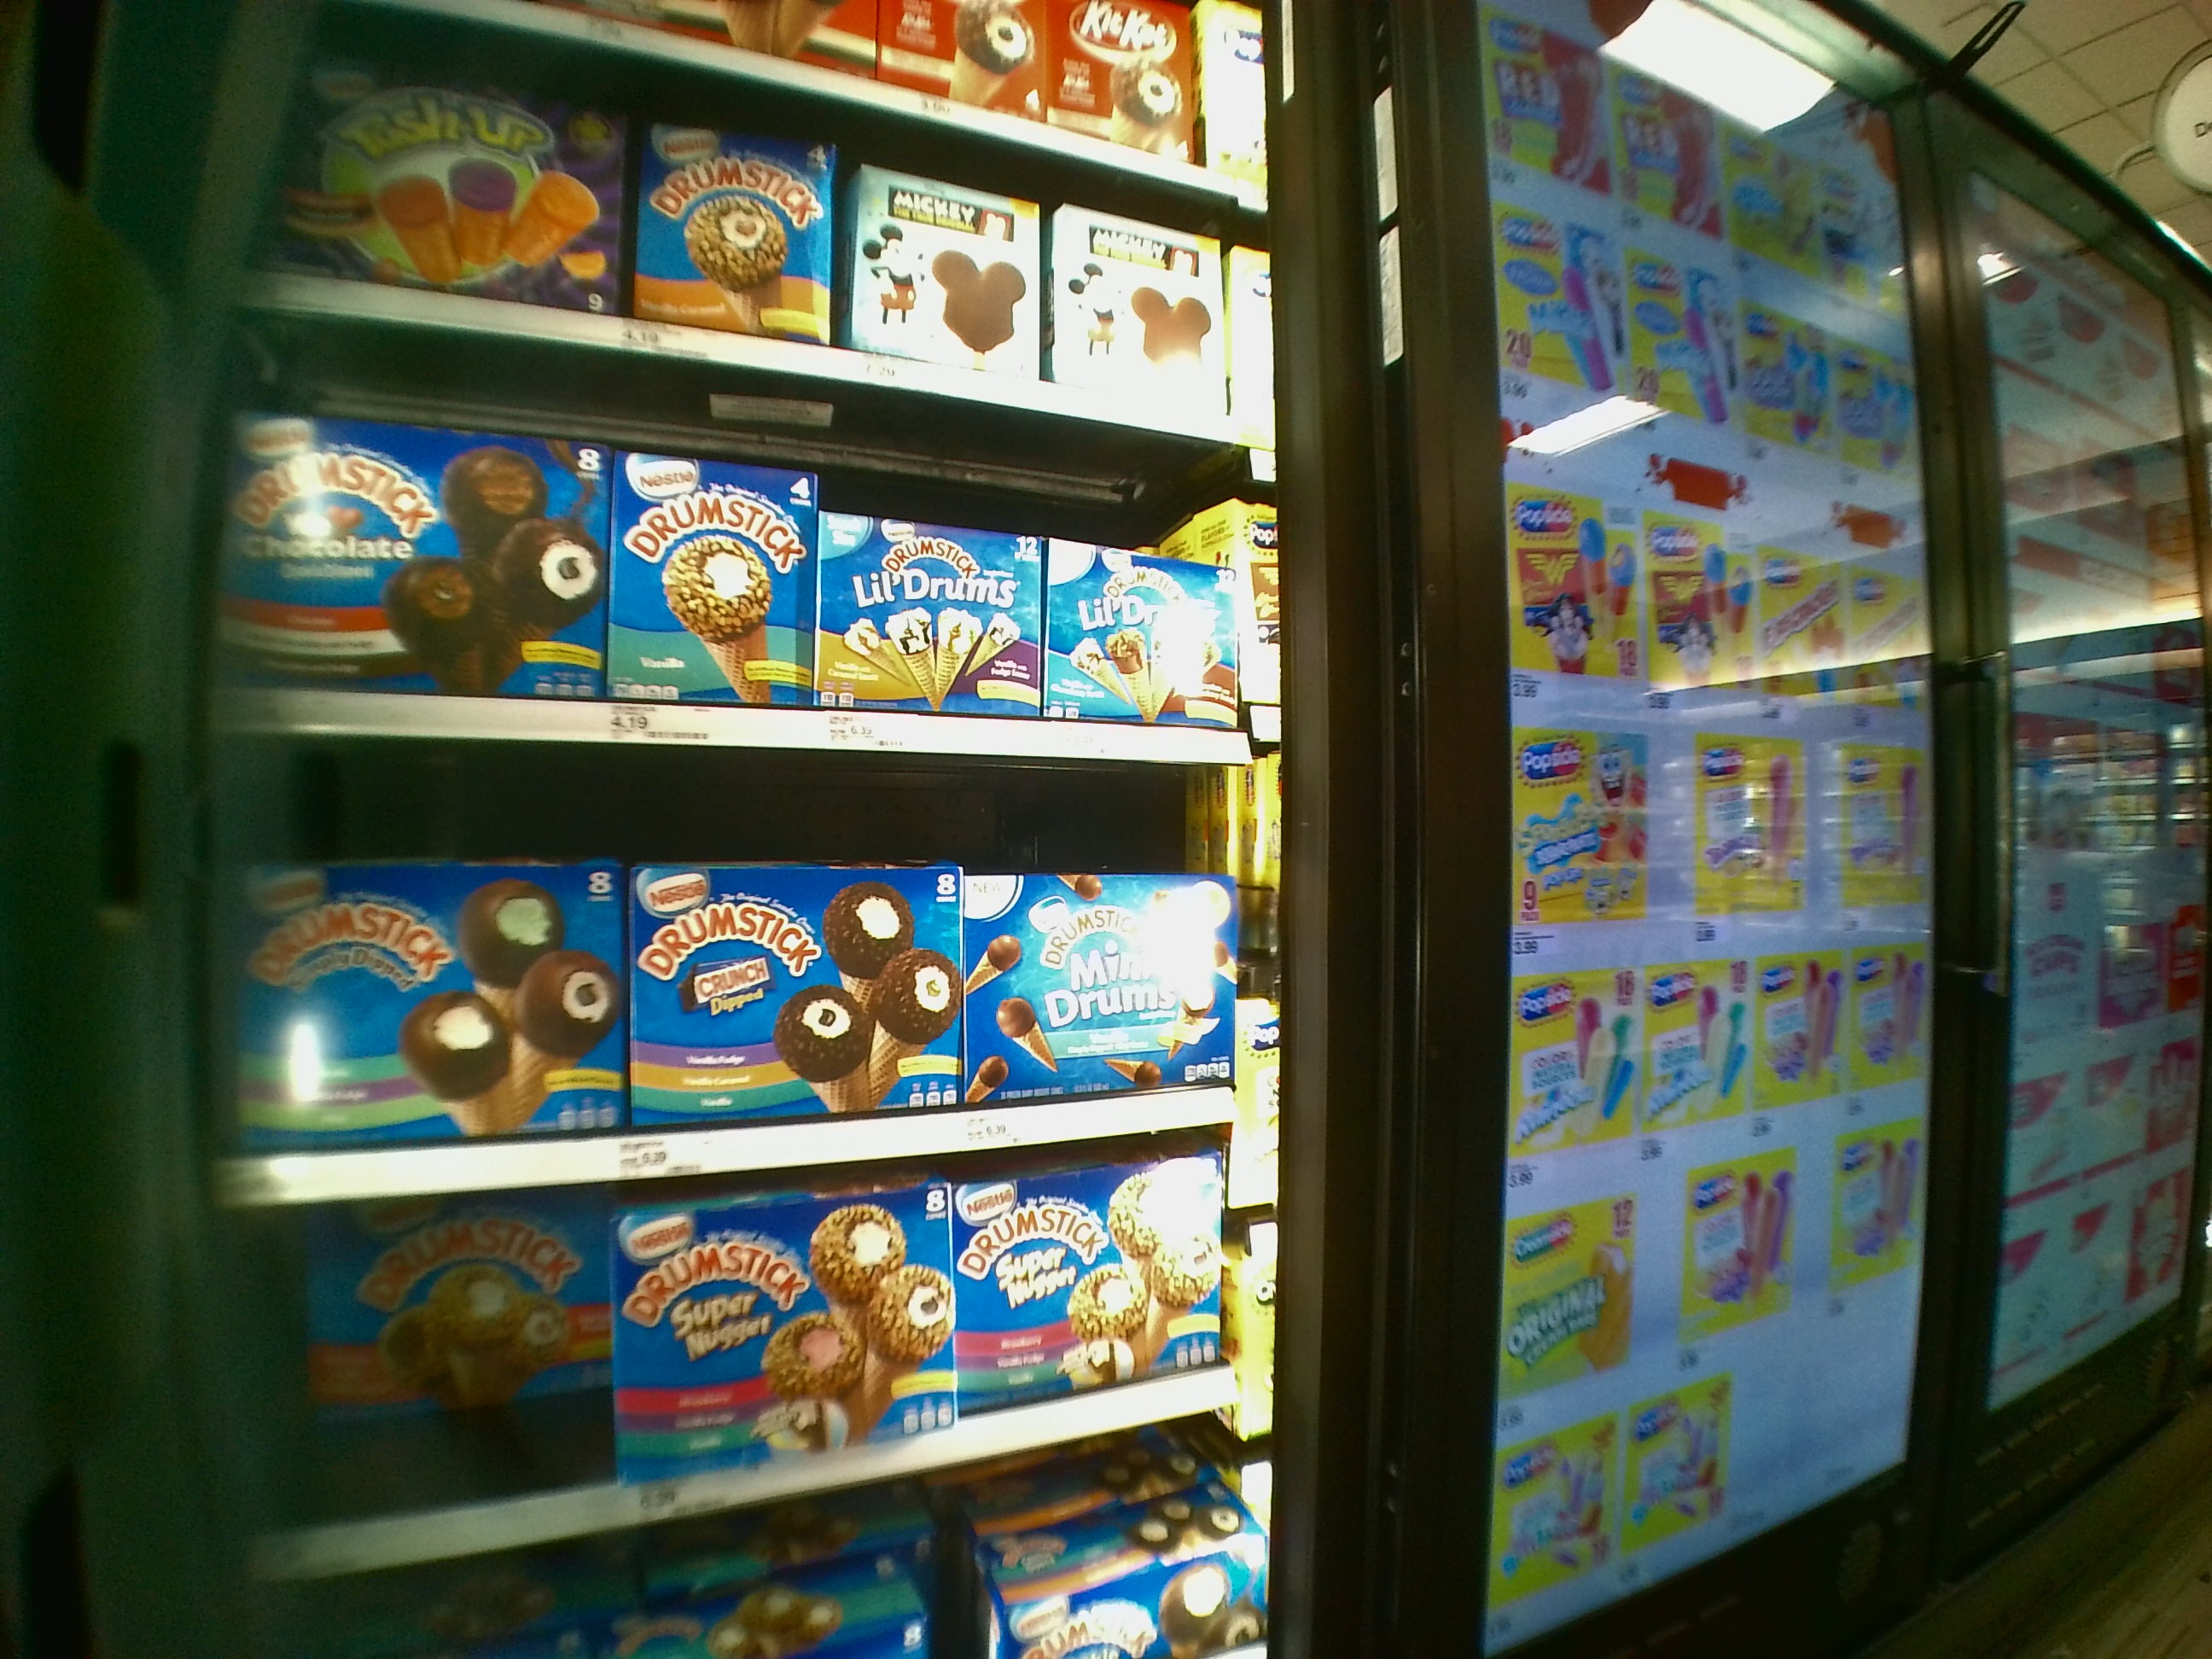shelf: (218, 739, 1271, 1204), (221, 345, 1261, 753), (223, 1150, 1270, 1492)
